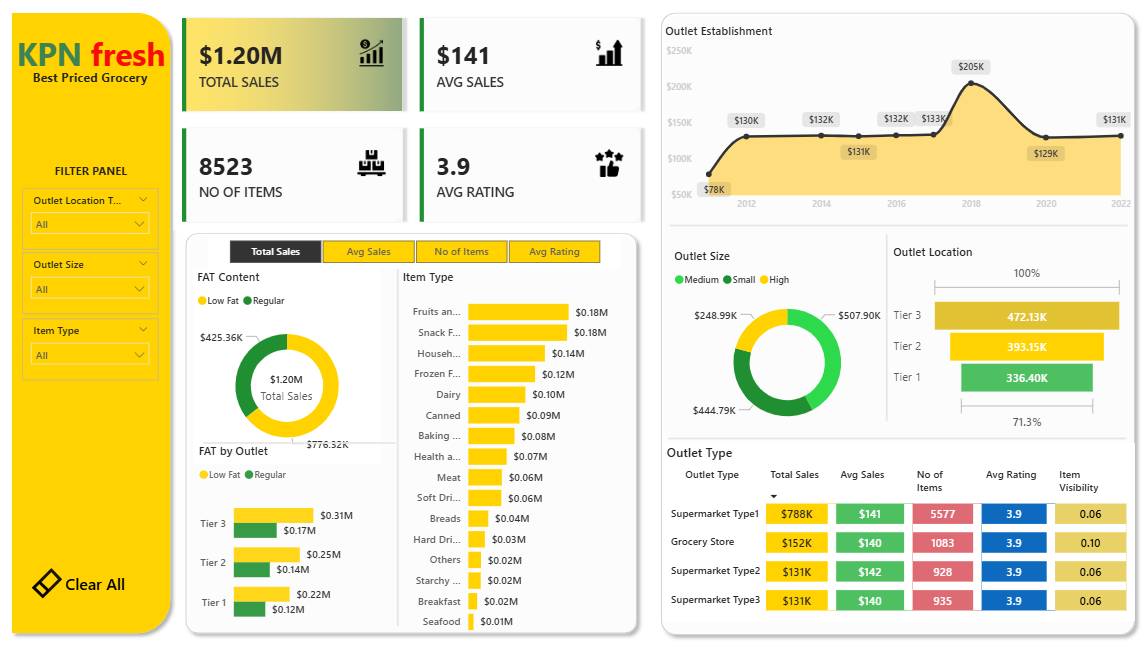

Layout of this report page (visuals, bound fields, positions):
{"tool":"powerbi","page":{"name":"Page 1","canvas":[1400,800],"ordinal":0},"visuals":[{"type":"shape","box":[21.2,24.7,205,749.4],"z":0},{"type":"textbox","box":[21.2,51.3,205,83.1],"z":1000},{"type":"textbox","box":[37.1,93.7,171.4,40.6],"z":2000},{"type":"cardVisual","fields":{"Data":["BlinkIT Grocery Data.Total Sales","BlinkIT Grocery Data.Avg Sales","BlinkIT Grocery Data.Total No. of Items","BlinkIT Grocery Data.Avg Rating"]},"box":[215.6,24.7,570.9,270.4],"z":3000},{"type":"shape","box":[226.2,284.5,549.6,489.6],"z":4000},{"type":"slicer","fields":{"Values":["Metrics 2.Metrics"]},"box":[261.6,295.1,486,40.6],"z":5000},{"type":"donutChart","title":"FAT Content","fields":{"Y":["BlinkIT Grocery Data.Total Sales"],"Category":["BlinkIT Grocery Data.Item Fat Content"]},"box":[243.9,335.8,220.9,229.8],"z":6000},{"type":"cardVisual","fields":{"Data":["BlinkIT Grocery Data.Total Sales"]},"box":[284.5,431.2,139.6,88.4],"z":7000},{"type":"clusteredBarChart","title":"FAT by Outlet","fields":{"Y":["BlinkIT Grocery Data.Total Sales"],"Category":["BlinkIT Grocery Data.Outlet Location Type"],"Series":["BlinkIT Grocery Data.Item Fat Content"]},"box":[245.7,540.8,219.2,229.8],"z":8000},{"type":"shape","box":[256.3,519.6,226.2,42.4],"z":9000},{"type":"shape","box":[464.8,335.8,40.6,420.6],"z":10000},{"type":"barChart","title":"Item Type","fields":{"Y":["BlinkIT Grocery Data.Total Sales"],"Category":["BlinkIT Grocery Data.Item Type"]},"box":[486,335.8,277.5,440.1],"z":11000},{"type":"shape","box":[786.5,24.7,576.2,751.1],"z":12000},{"type":"lineChart","title":"Outlet Establishment","fields":{"Category":["BlinkIT Grocery Data.Outlet Establishment Year"],"Y":["BlinkIT Grocery Data.Total Sales"]},"box":[795.3,46,558.5,229.8],"z":13000},{"type":"shape","box":[805.9,263.3,539,42.4],"z":14000},{"type":"donutChart","title":"Outlet Size","fields":{"Y":["BlinkIT Grocery Data.Total Sales"],"Category":["BlinkIT Grocery Data.Outlet Size"]},"box":[805.9,311.1,275.7,224.5],"z":15000},{"type":"shape","box":[1041,295.1,40.6,219.2],"z":16000},{"type":"funnel","title":"Outlet Location","fields":{"Y":["Sum(BlinkIT Grocery Data.Sales)"],"Category":["BlinkIT Grocery Data.Outlet Location Type"]},"box":[1063.9,305.8,281,224.5],"z":17000},{"type":"shape","box":[804.1,514.3,539,42.4],"z":18000},{"type":"pivotTable","title":"Outlet Type","fields":{"Rows":["BlinkIT Grocery Data.Outlet Type"],"Values":["BlinkIT Grocery Data.Total Sales","BlinkIT Grocery Data.Avg Sales","BlinkIT Grocery Data.No of Items","BlinkIT Grocery Data.Avg Rating","Avg(BlinkIT Grocery Data.Item Visibility)"]},"box":[797.1,540.8,556.7,210.3],"z":19000},{"type":"slicer","fields":{"Values":["BlinkIT Grocery Data.Outlet Location Type"]},"box":[42.4,240.4,160.8,72.5],"z":20000},{"type":"slicer","fields":{"Values":["BlinkIT Grocery Data.Outlet Size"]},"box":[42.4,316.4,160.8,72.5],"z":21000},{"type":"slicer","fields":{"Values":["BlinkIT Grocery Data.Item Type"]},"box":[42.4,394.1,160.8,72.5],"z":22000},{"type":"textbox","box":[72.5,205,102.5,35.3],"z":23000},{"type":"actionButton","box":[42.4,676.9,132.6,58.3],"z":24000}]}

Visuals, with their boxes in screenshot pixels (x1, y1, x2, y2), scaled from the page's 1400x800 canvas onto the 1146x645 screenshot:
shape: x1=17, y1=20, x2=185, y2=624
textbox: x1=17, y1=41, x2=185, y2=108
textbox: x1=30, y1=76, x2=171, y2=108
cardVisual - BlinkIT Grocery Data.Total Sales x BlinkIT Grocery Data.Avg Sales: x1=176, y1=20, x2=644, y2=238
shape: x1=185, y1=229, x2=635, y2=624
slicer - Metrics 2.Metrics: x1=214, y1=238, x2=612, y2=271
"FAT Content" donutChart: x1=200, y1=271, x2=380, y2=456
cardVisual - BlinkIT Grocery Data.Total Sales: x1=233, y1=348, x2=347, y2=419
"FAT by Outlet" clusteredBarChart: x1=201, y1=436, x2=381, y2=621
shape: x1=210, y1=419, x2=395, y2=453
shape: x1=380, y1=271, x2=414, y2=610
"Item Type" barChart: x1=398, y1=271, x2=625, y2=626
shape: x1=644, y1=20, x2=1115, y2=625
"Outlet Establishment" lineChart: x1=651, y1=37, x2=1108, y2=222
shape: x1=660, y1=212, x2=1101, y2=246
"Outlet Size" donutChart: x1=660, y1=251, x2=885, y2=432
shape: x1=852, y1=238, x2=885, y2=415
"Outlet Location" funnel: x1=871, y1=247, x2=1101, y2=428
shape: x1=658, y1=415, x2=1099, y2=449
"Outlet Type" pivotTable: x1=652, y1=436, x2=1108, y2=606
slicer - BlinkIT Grocery Data.Outlet Location Type: x1=35, y1=194, x2=166, y2=252
slicer - BlinkIT Grocery Data.Outlet Size: x1=35, y1=255, x2=166, y2=314
slicer - BlinkIT Grocery Data.Item Type: x1=35, y1=318, x2=166, y2=376
textbox: x1=59, y1=165, x2=143, y2=194
actionButton: x1=35, y1=546, x2=143, y2=593
